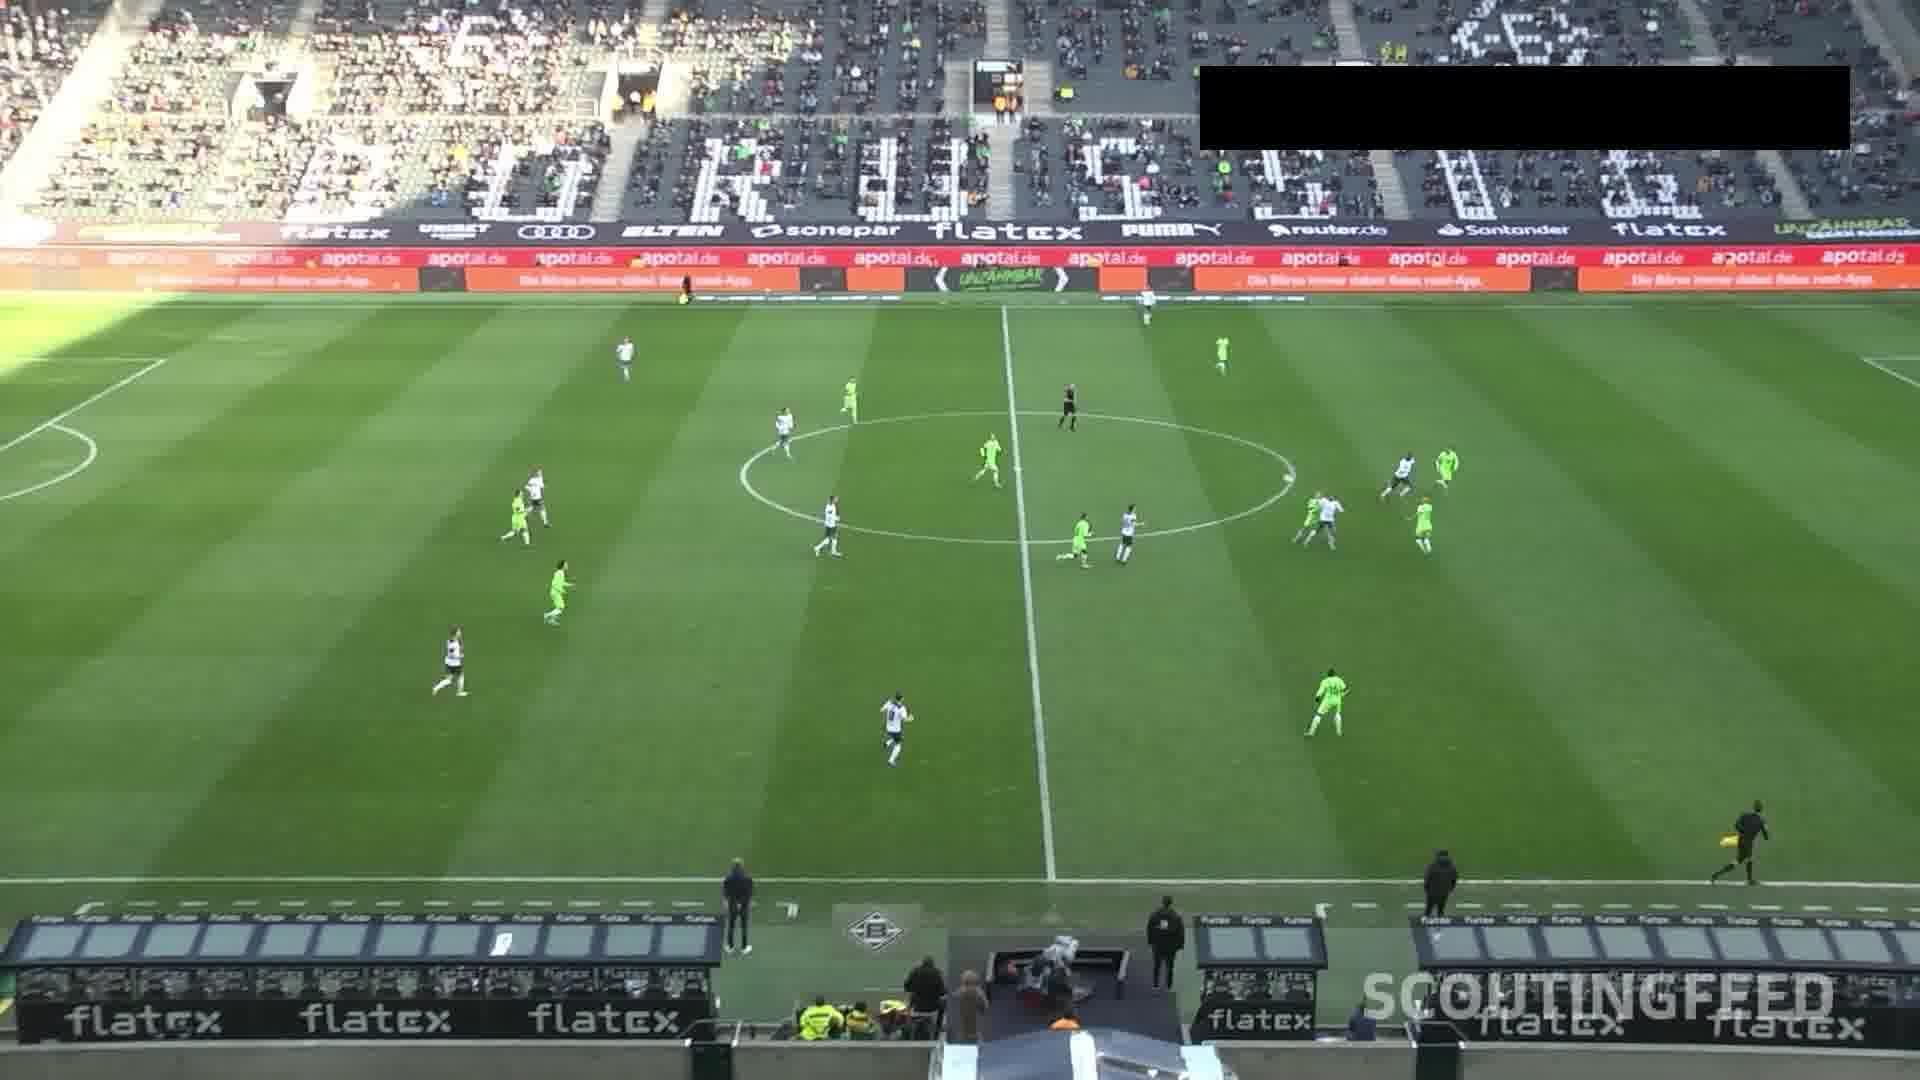football: (1280, 472, 1295, 485)
